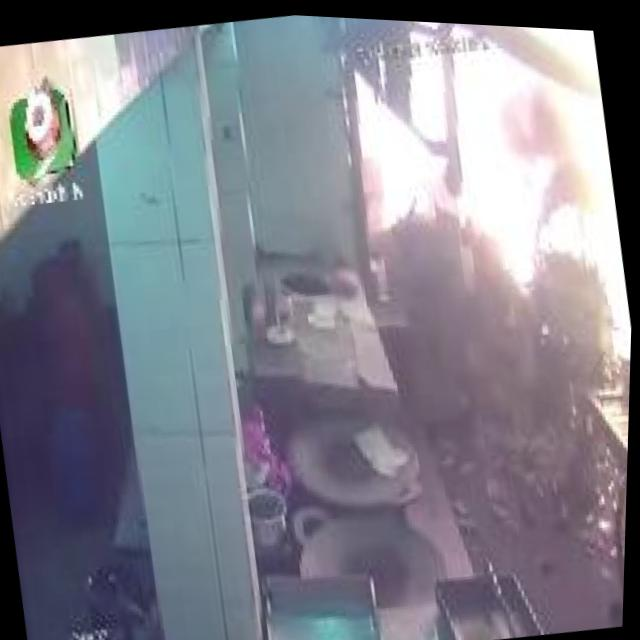fire: (399, 17, 640, 394), (343, 62, 475, 247)
